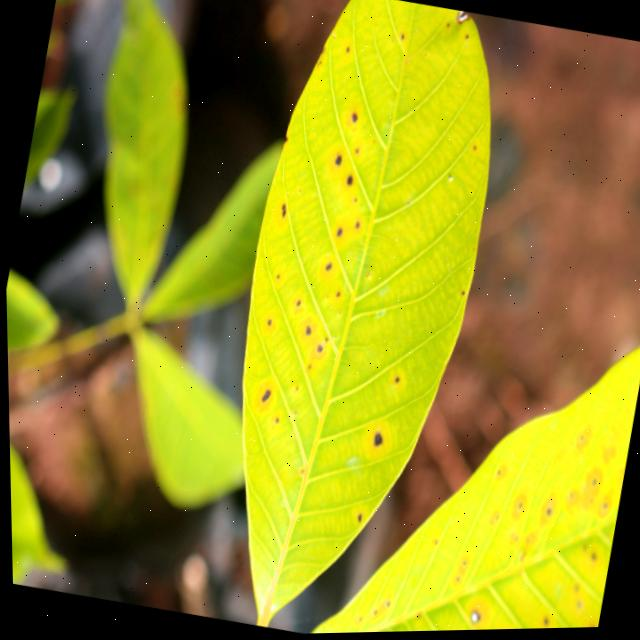Colletotrichum: (467, 612, 479, 628), (371, 434, 382, 449), (261, 390, 269, 404), (333, 156, 342, 167), (345, 177, 353, 188), (350, 114, 358, 125), (304, 328, 311, 337), (324, 265, 331, 272), (280, 205, 285, 213), (316, 347, 321, 354), (336, 231, 341, 238), (281, 213, 285, 219)
